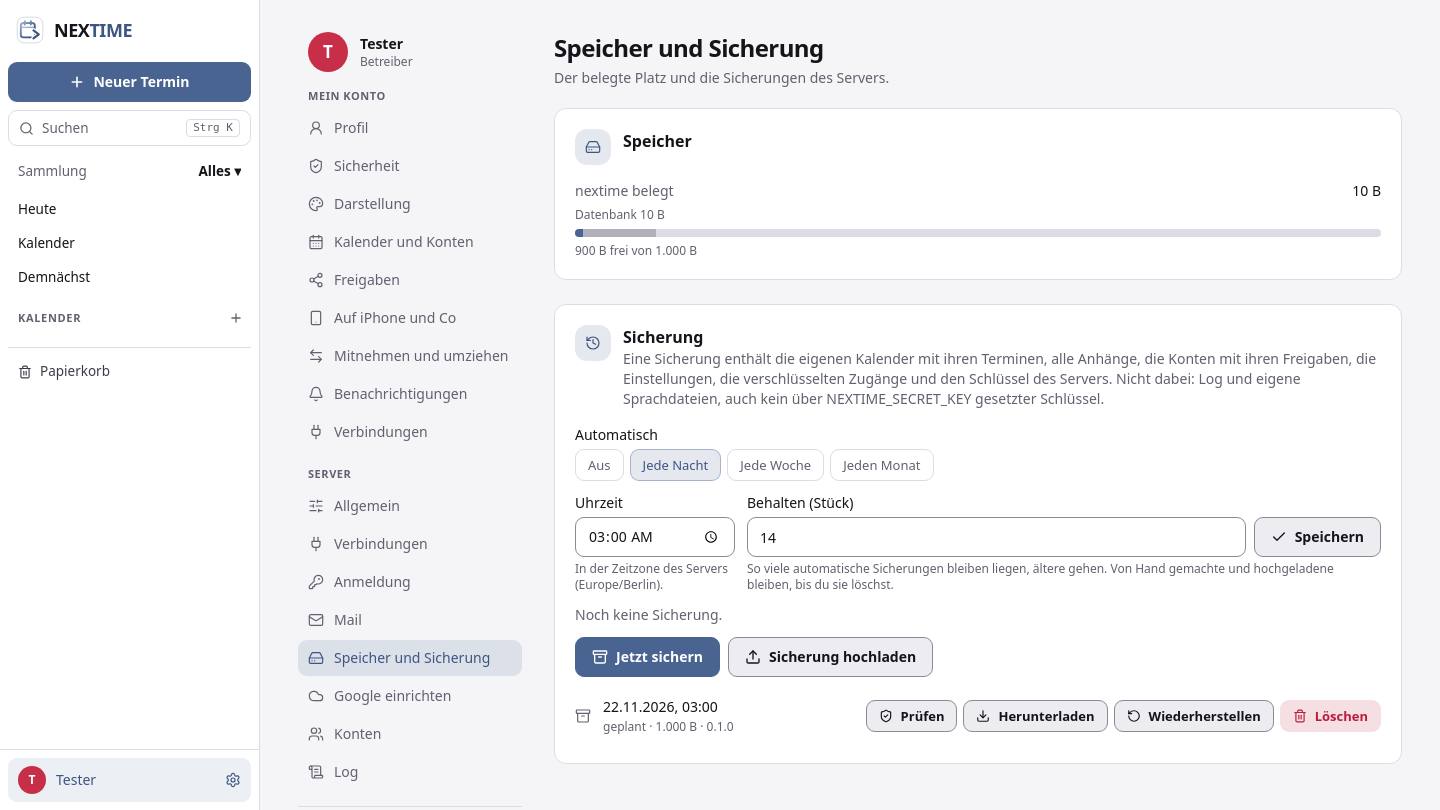
Scenario: TIME-1 the group "Server" of the settings › TIME-1 AC-8 "Wiederherstellen" checks first and shows what comes, changes and goes before asking
Click the button "Wiederherstellen" at (1194, 716), box [1114,700,1274,732]
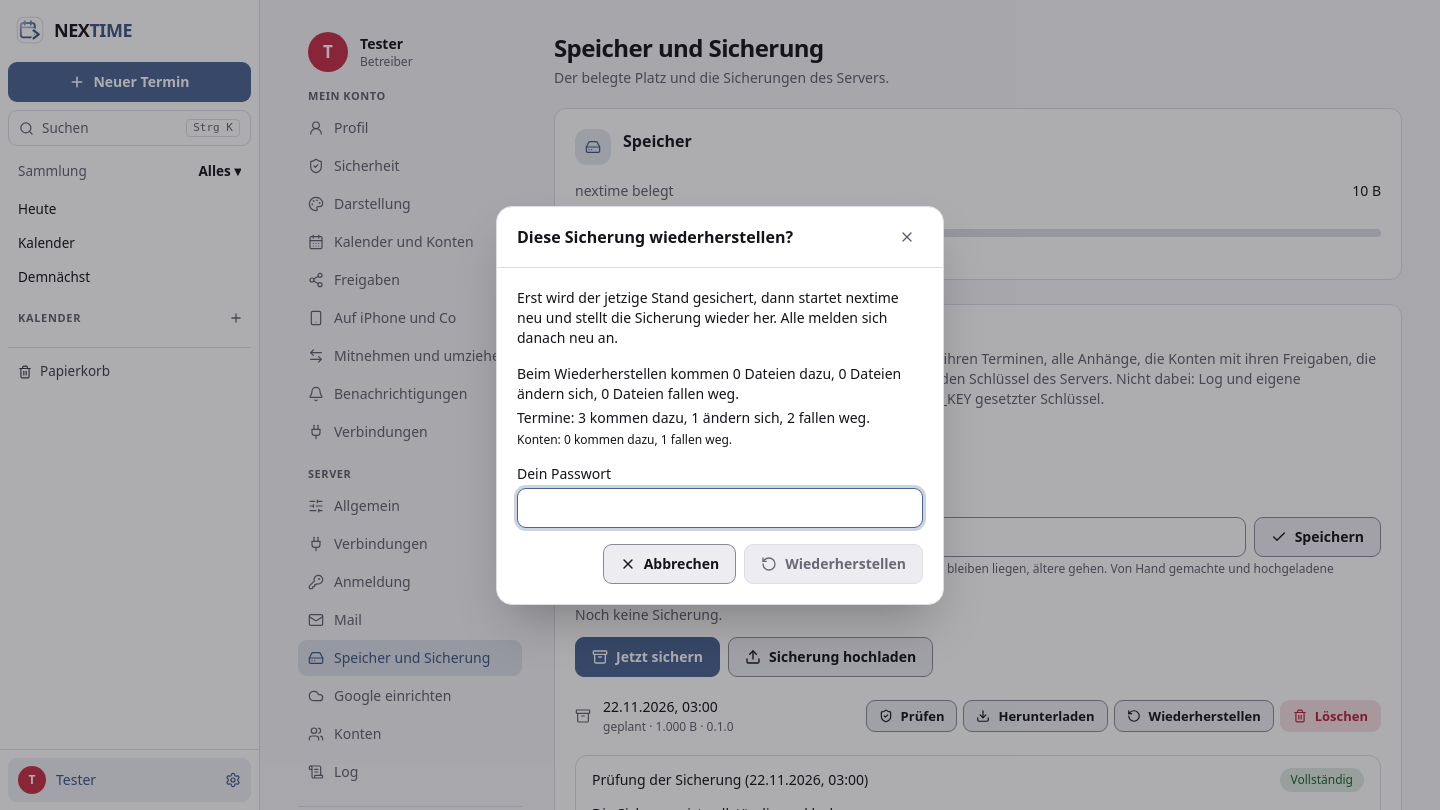
expect the dialog shows "Termine: 3 kommen dazu, 1 ändern sich, 2 fallen weg.": met, box [517,408,870,426]
expect the dialog shows "Konten: 0 kommen dazu, 1 fallen weg.": met, box [517,430,732,448]
